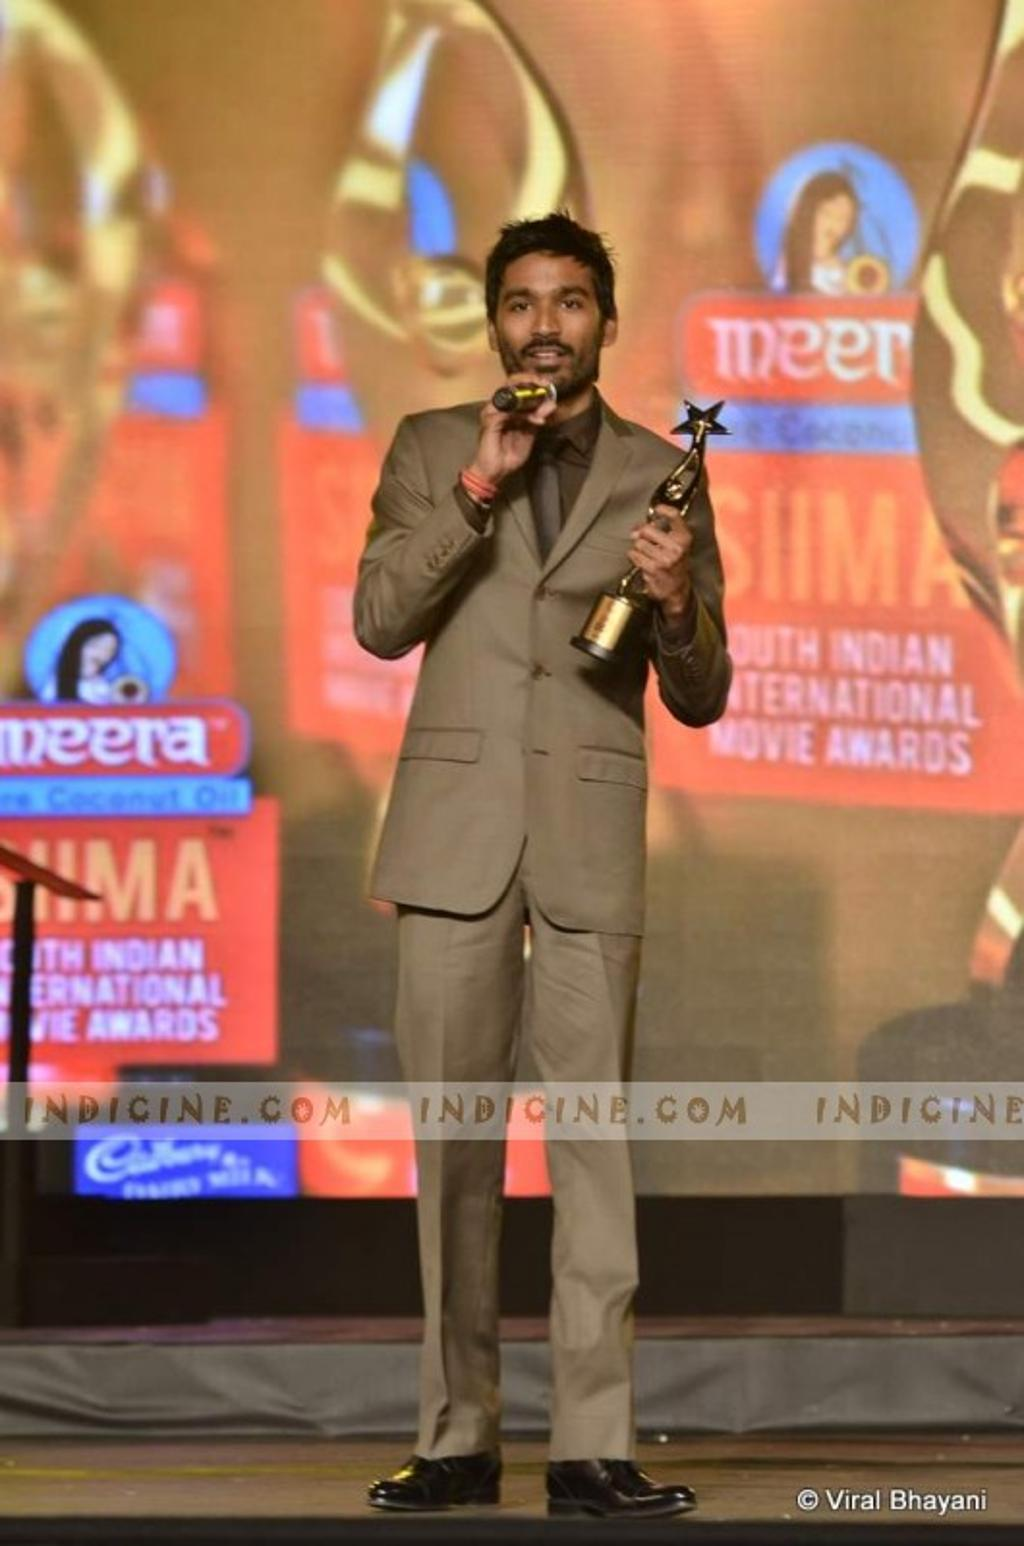face: (498, 251, 601, 396)
